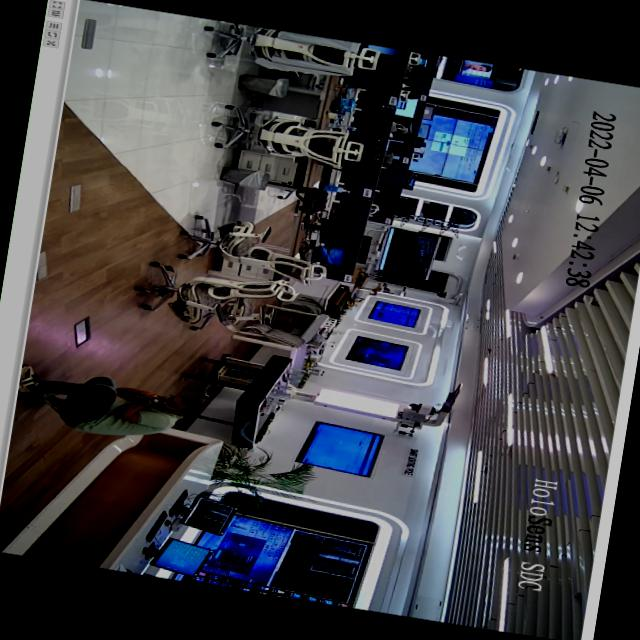long weapon: (130, 390, 174, 412)
